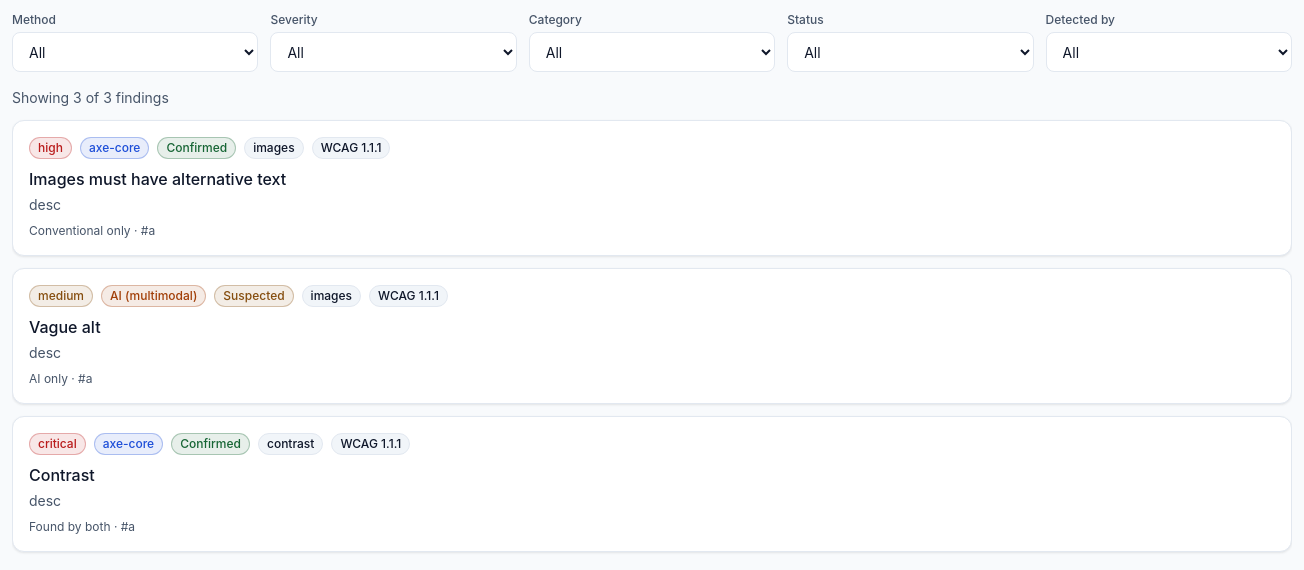
Test: findings panel › filters by method, severity and detected-by, and reports counts
Expected: the text "Showing 3 of 3 findings" is shown, [12,89,169,106]
Select "AI" in the dropdown labelled "Method" at (135,52), box [12,32,258,72]
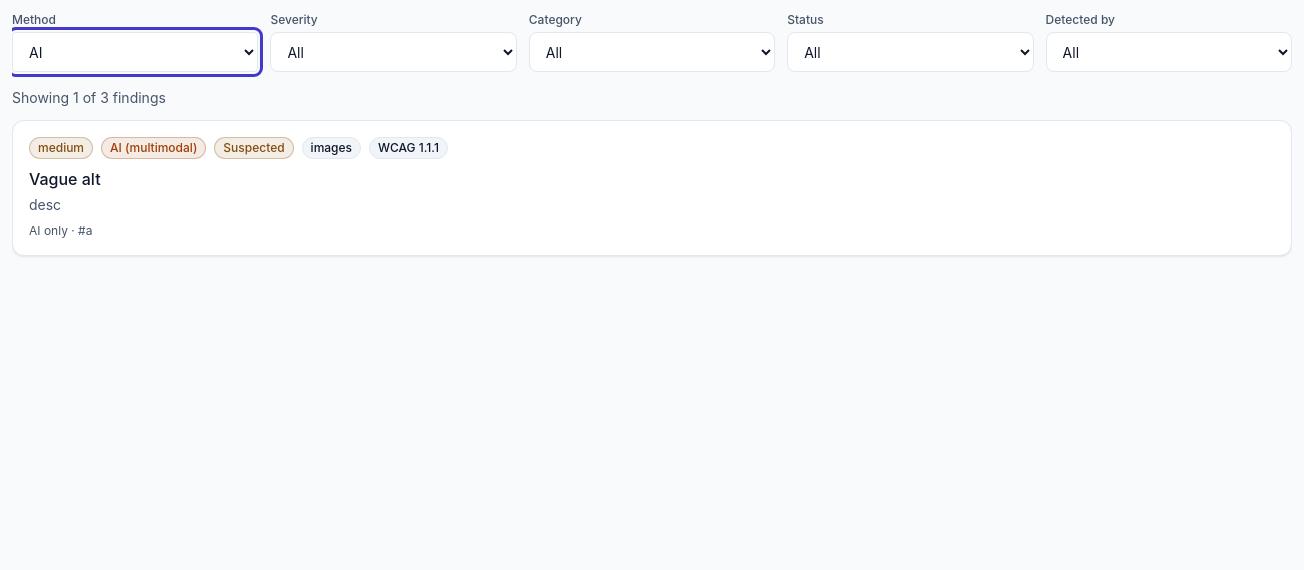
Expected: the text "Showing 1 of 3 findings" is shown, [12,89,166,106]
Select "All" in the dropdown labelled "Method" at (135,52), box [12,32,258,72]
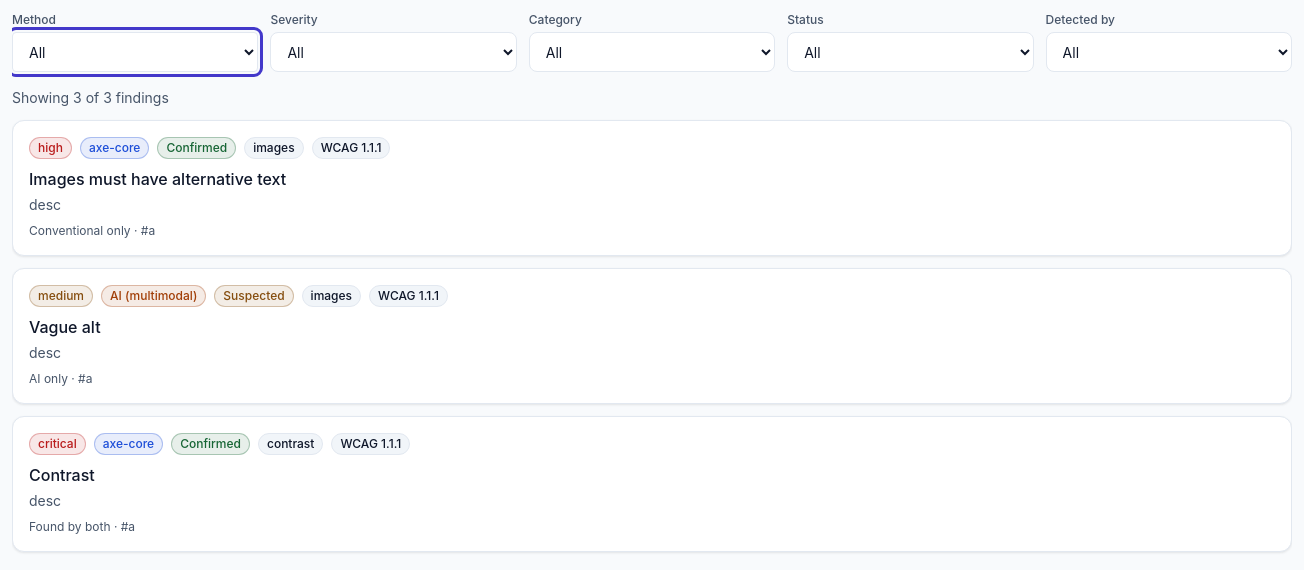
Select "Critical" in the dropdown labelled "Severity" at (394,52), box [270,32,517,72]
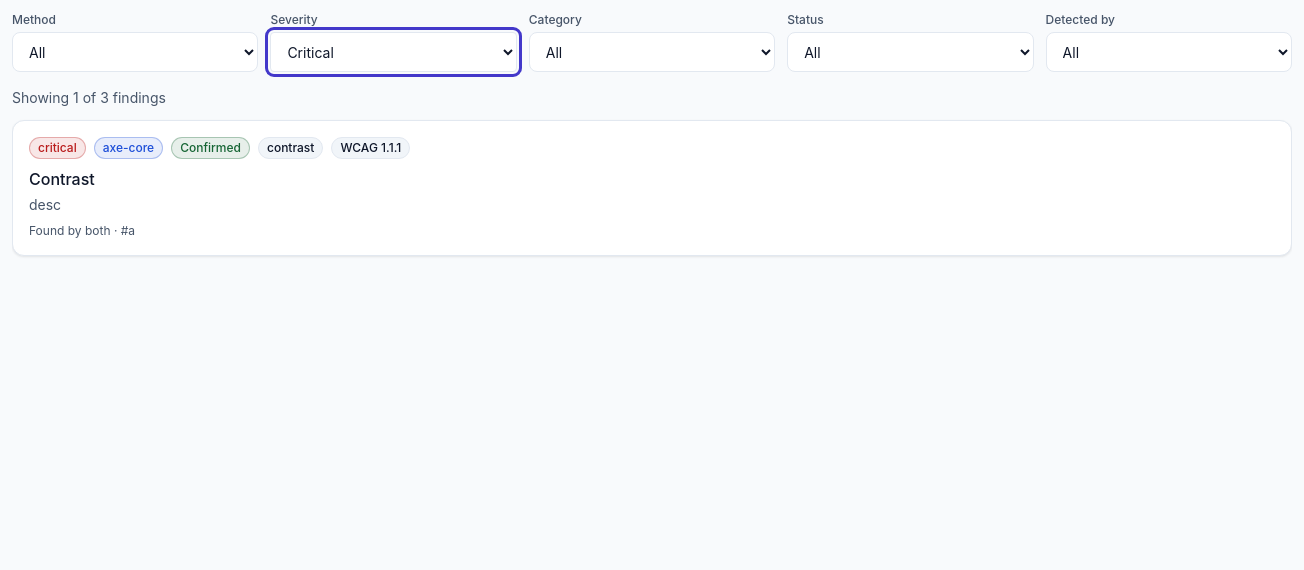
Expected: the button with aria-label "Open details: Contrast" is shown, [12,120,1292,256]
Expected: the button "Vague alt" is gone
Select "All" in the dropdown labelled "Severity" at (394,52), box [270,32,517,72]
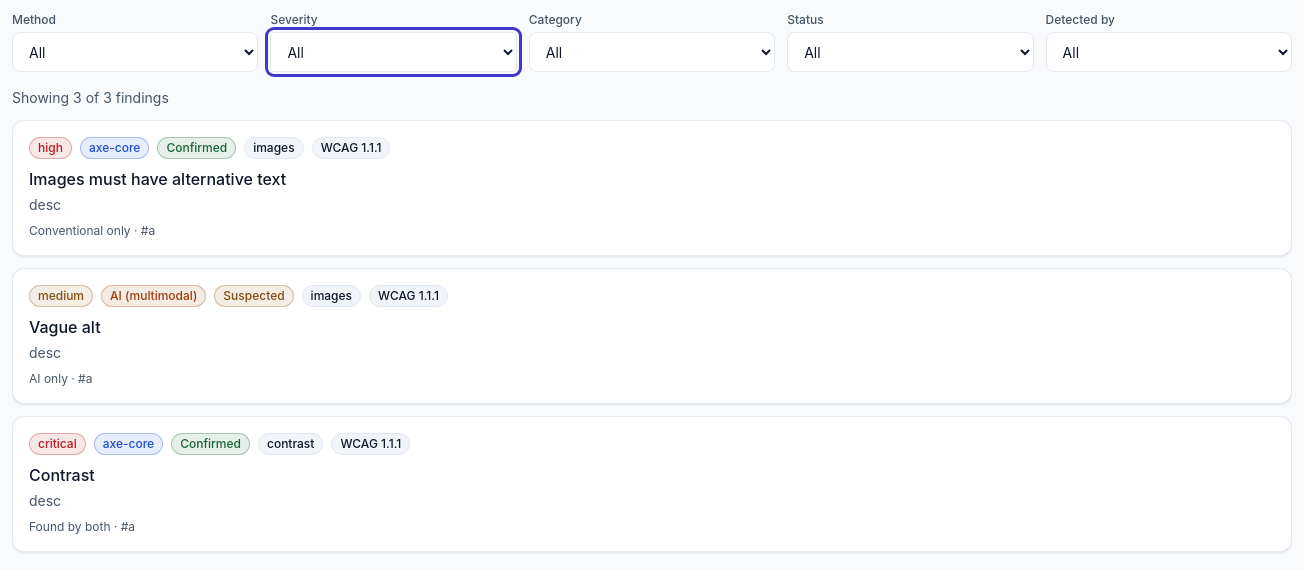
Select "AI only" in the dropdown labelled "Detected by" at (1169,52), box [1046,32,1292,72]
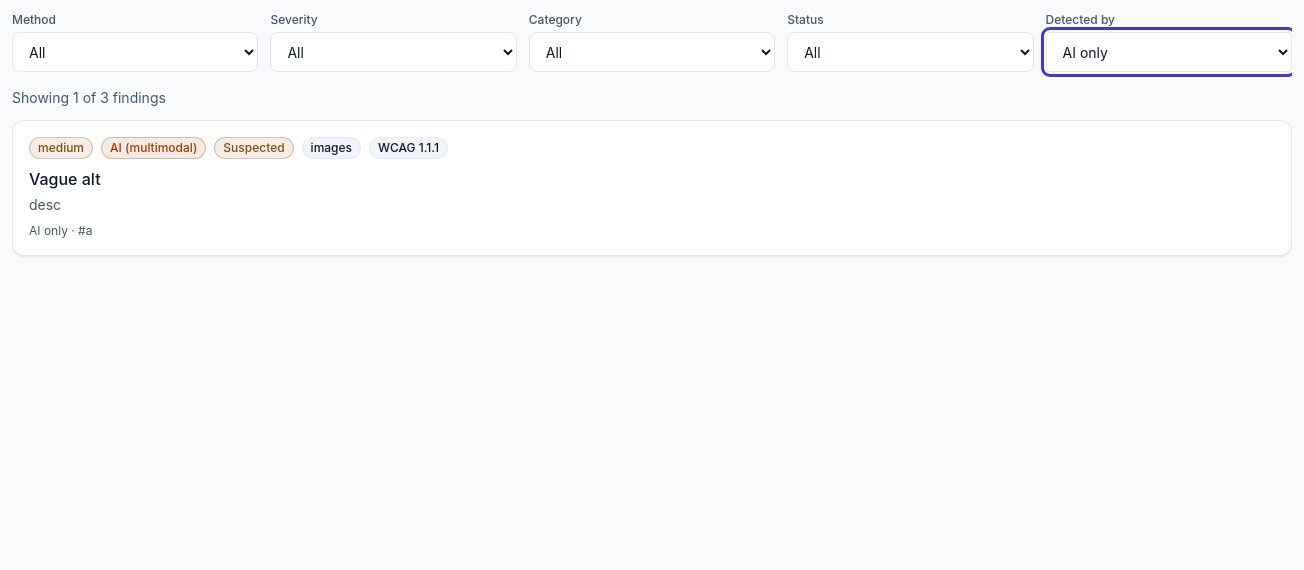
Expected: the text "Showing 1 of 3 findings" is shown, [12,89,166,106]
Select "Needs manual_review" in the dropdown labelled "Status" at (910,52), box [787,32,1034,72]
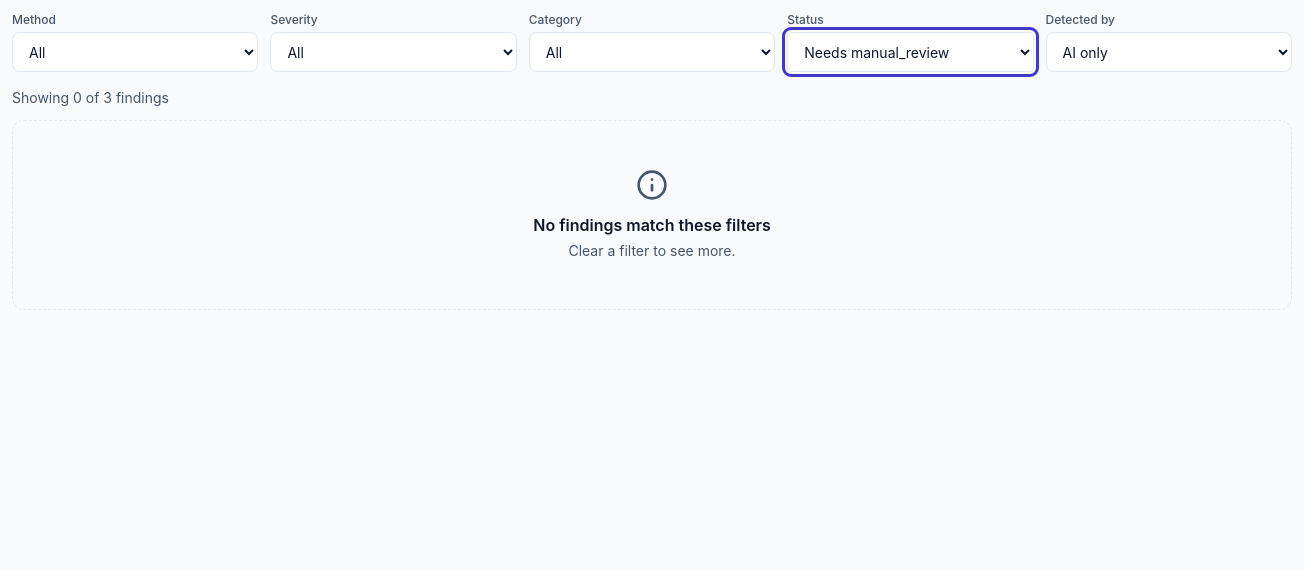
Expected: the heading "No findings match these filters" is shown, [533,213,771,237]
